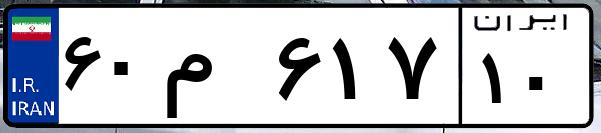0: (525, 38, 570, 115), (110, 28, 158, 98)
1: (330, 28, 385, 110), (475, 38, 525, 113)
6: (270, 28, 330, 110), (57, 26, 110, 100)
7: (385, 28, 445, 110)
م: (158, 20, 270, 120)
